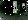person: (15, 2, 21, 14), (21, 2, 27, 13)
